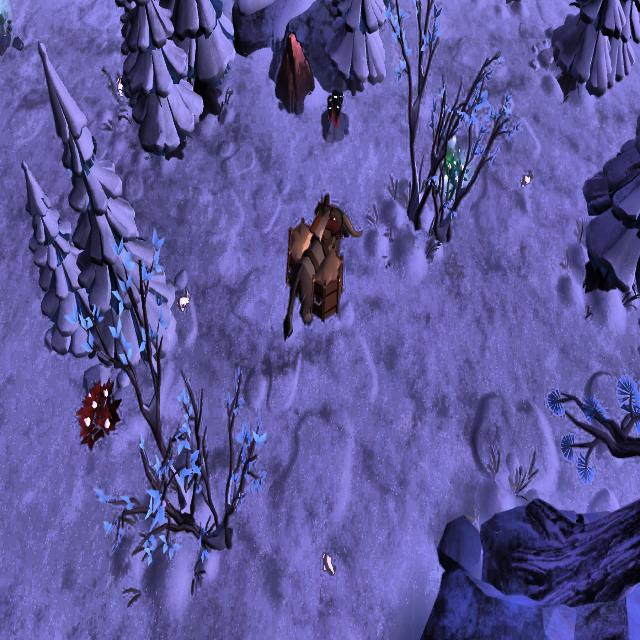fiber_t4: (441, 153, 466, 199)
fiber_t5: (76, 376, 122, 448)
ore_t5: (324, 90, 344, 123)
rock_t5: (272, 30, 314, 111)
